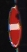No entry: (6, 6, 22, 47)
